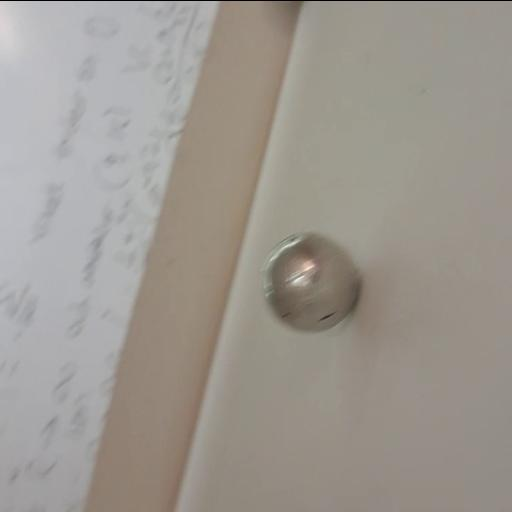alive: (260, 231, 364, 335)
